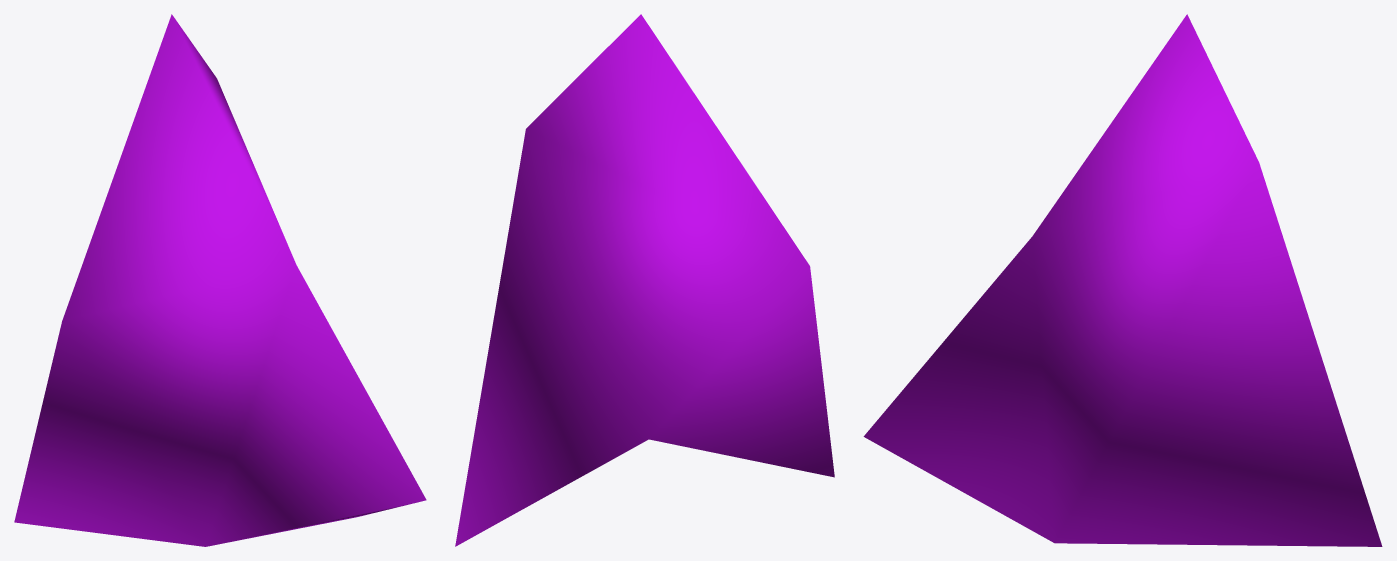
The model's file is rock6.glb.
The picture shows the model from 3 angles, left to right: view 1: azimuth 30°, elevation 25°; view 2: azimuth 150°, elevation 25°; view 3: azimuth 270°, elevation 25°; orthographic projection. The views are drawn at different scales.
Visible parts, largest first — view 1: rock.006; view 2: rock.006; view 3: rock.006.
Part boxes in pixels (x1,y1,x2,y2): rock.006: (14,14,426,546); rock.006: (455,14,834,546); rock.006: (863,14,1382,546).
Bounding box in the file's own units: 1.86 × 2.99 × 2.88.
